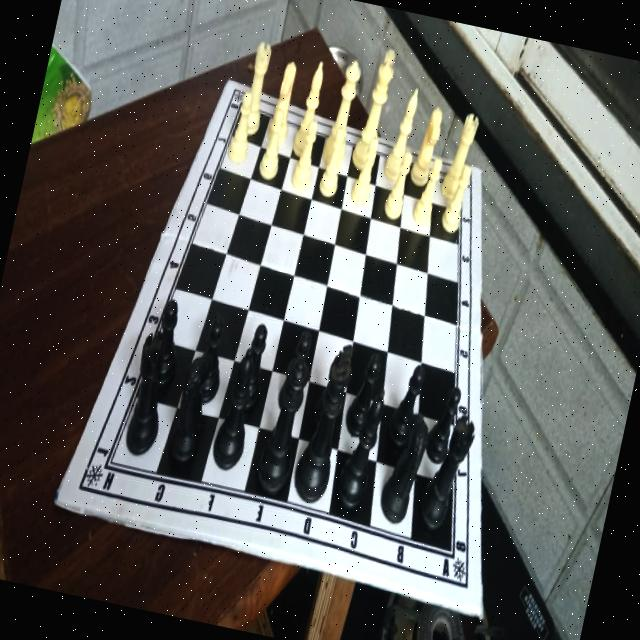corners: (48, 486, 70, 522), (470, 156, 490, 182), (469, 600, 488, 626), (220, 70, 236, 98)
